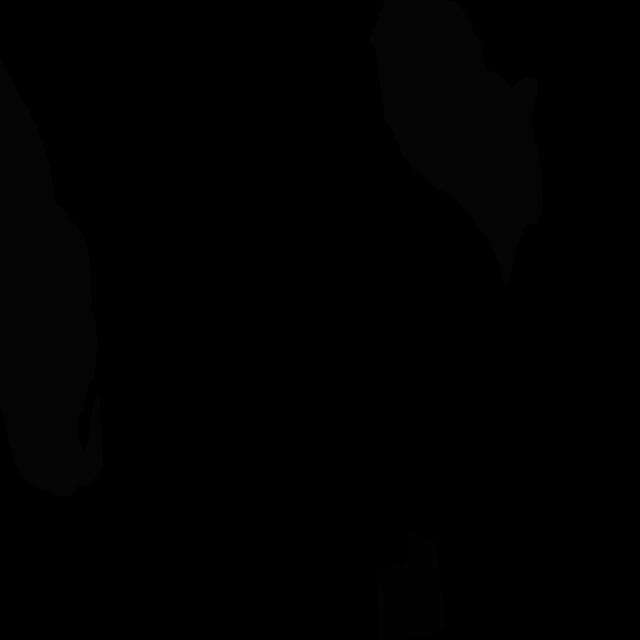cardboard: (376, 530, 446, 640)
soft_plastic: (367, 0, 542, 285), (0, 54, 104, 496)
